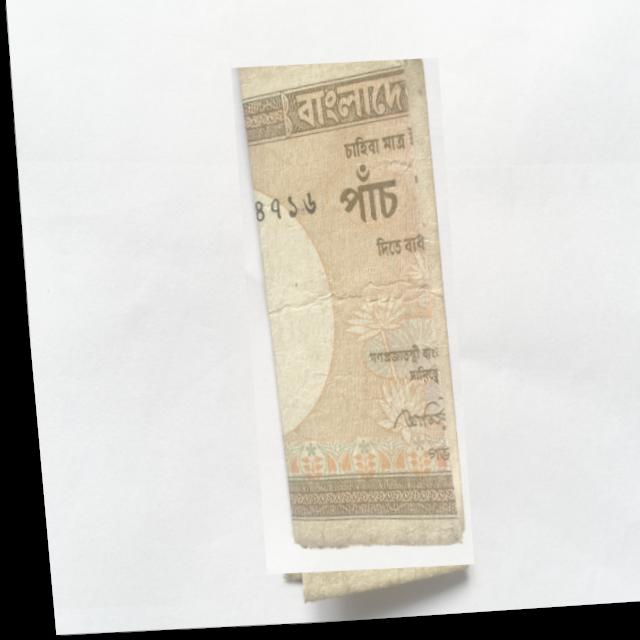Taka: (220, 59, 471, 581)
